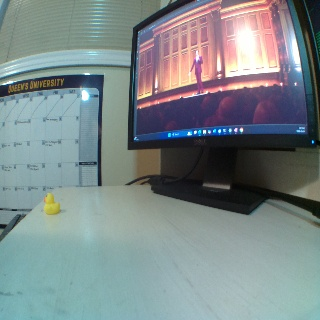duck_regular: (43, 191, 60, 214)
